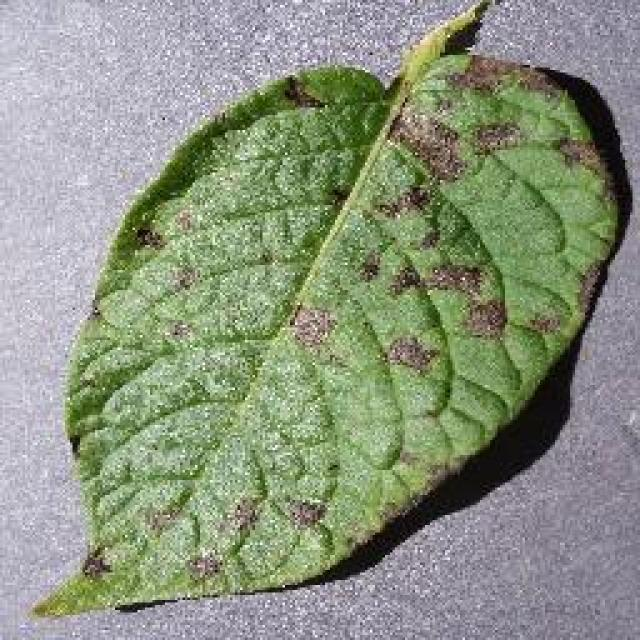Potato___Early_blight: (30, 0, 624, 617)
